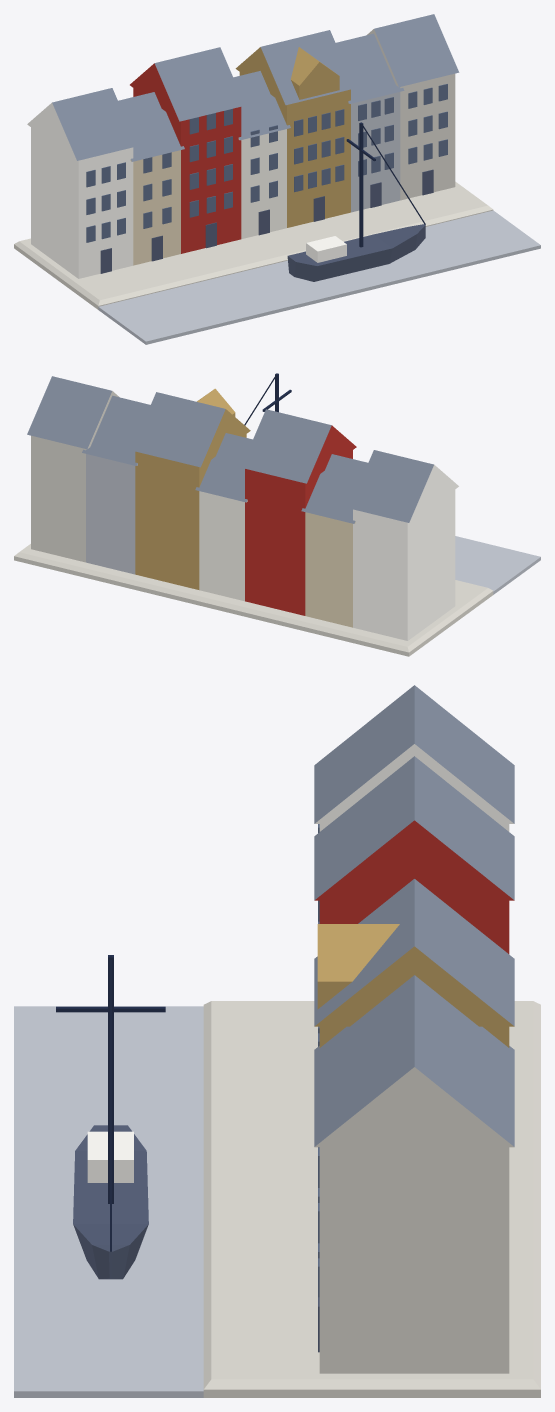
Rendered from copenhagen.glb.
3 views of the same model, one above another, from view 1: azimuth 30°, elevation 25°; view 2: azimuth 150°, elevation 25°; view 3: azimuth 270°, elevation 25° (orthographic). The views are drawn at different scales.
Visible parts, largest first — view 1: model; view 2: model; view 3: model.
Boxes of the visible parts, box(x1,y1,x2,y2) form: model: box(14, 14, 540, 344); model: box(14, 373, 540, 656); model: box(14, 685, 540, 1397).
Size of the model in its own units: 43.2 by 19 by 25.
